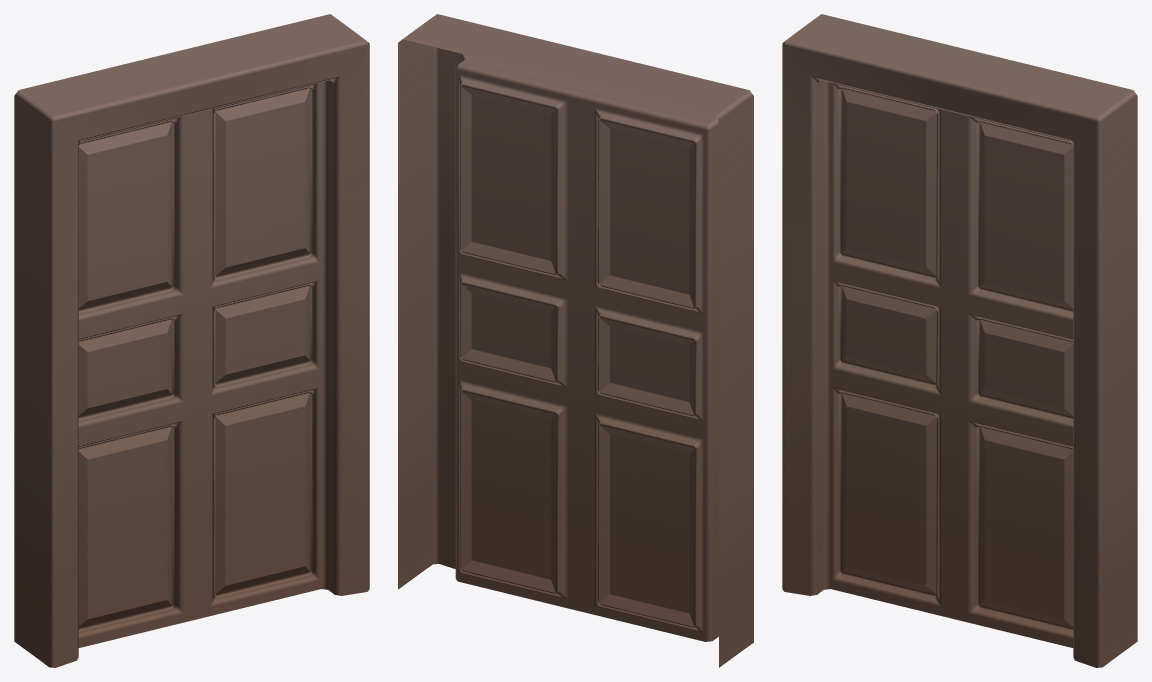
Rendered from Door1.fbx.
3 views of the same model, side by side, from view 1: azimuth 30°, elevation 25°; view 2: azimuth 150°, elevation 25°; view 3: azimuth 330°, elevation 25° (orthographic).
Parts seen in each view (by area): view 1: Cube.041; view 2: Cube.041; view 3: Cube.041.
Boxes of the visible parts, bbox=[...] form: Cube.041: bbox=[14, 14, 369, 667]; Cube.041: bbox=[398, 14, 753, 667]; Cube.041: bbox=[782, 14, 1137, 667].
Bounding box in the file's own units: 141 × 232 × 28.18.
